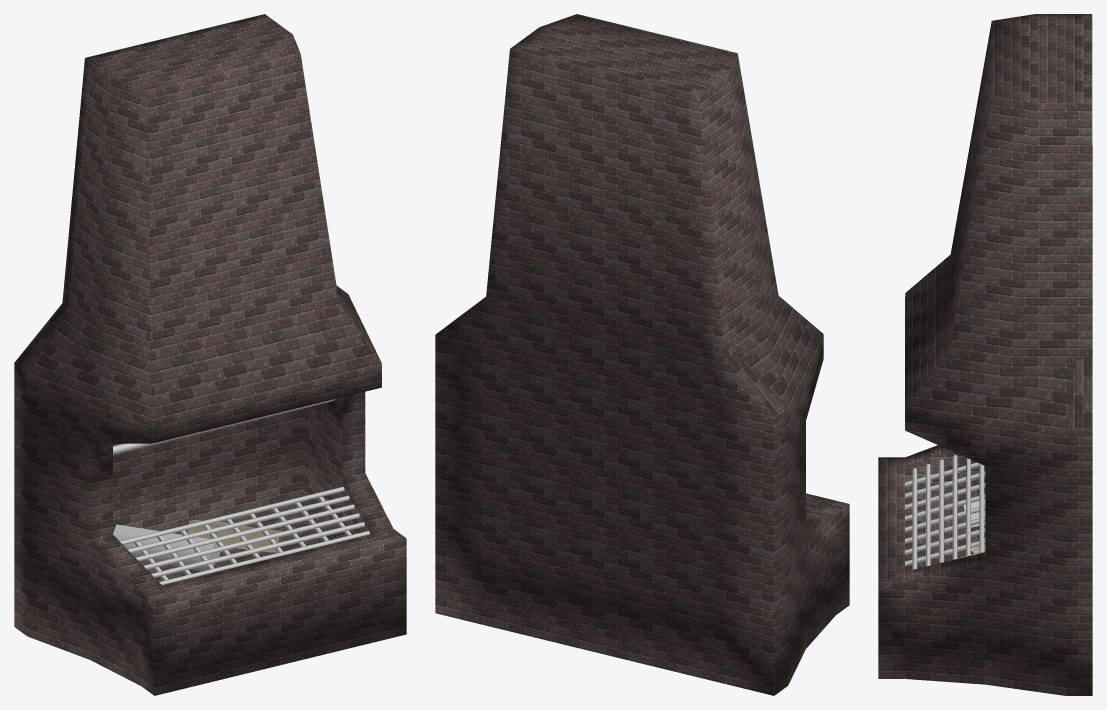
File: stove.fbx
The picture shows the model from 3 angles, left to right: view 1: azimuth 30°, elevation 25°; view 2: azimuth 150°, elevation 25°; view 3: azimuth 270°, elevation 25°; orthographic projection. The views are drawn at different scales.
Parts seen in each view (by area): view 1: Cube, Cylinder, Log_Quarter_2, Log_Quarter; view 2: Cube; view 3: Cube, Cylinder.
Boxes of the visible parts, x1=… form: Cube: x1=14, y1=14, x2=406, y2=695; Cylinder: x1=113, y1=399, x2=369, y2=584; Log_Quarter_2: x1=113, y1=524, x2=219, y2=571; Log_Quarter: x1=188, y1=519, x2=282, y2=552; Cube: x1=435, y1=14, x2=849, y2=695; Cube: x1=878, y1=14, x2=1092, y2=695; Cylinder: x1=905, y1=455, x2=985, y2=569.
Size of the model in its own units: 14 by 23 by 8.
